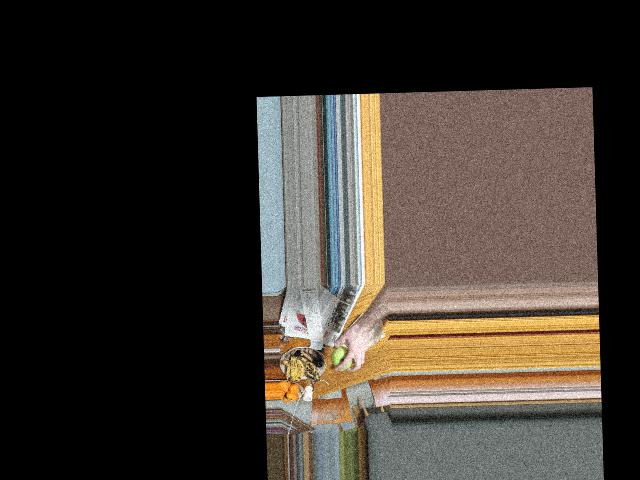apple: (332, 345, 353, 368)
